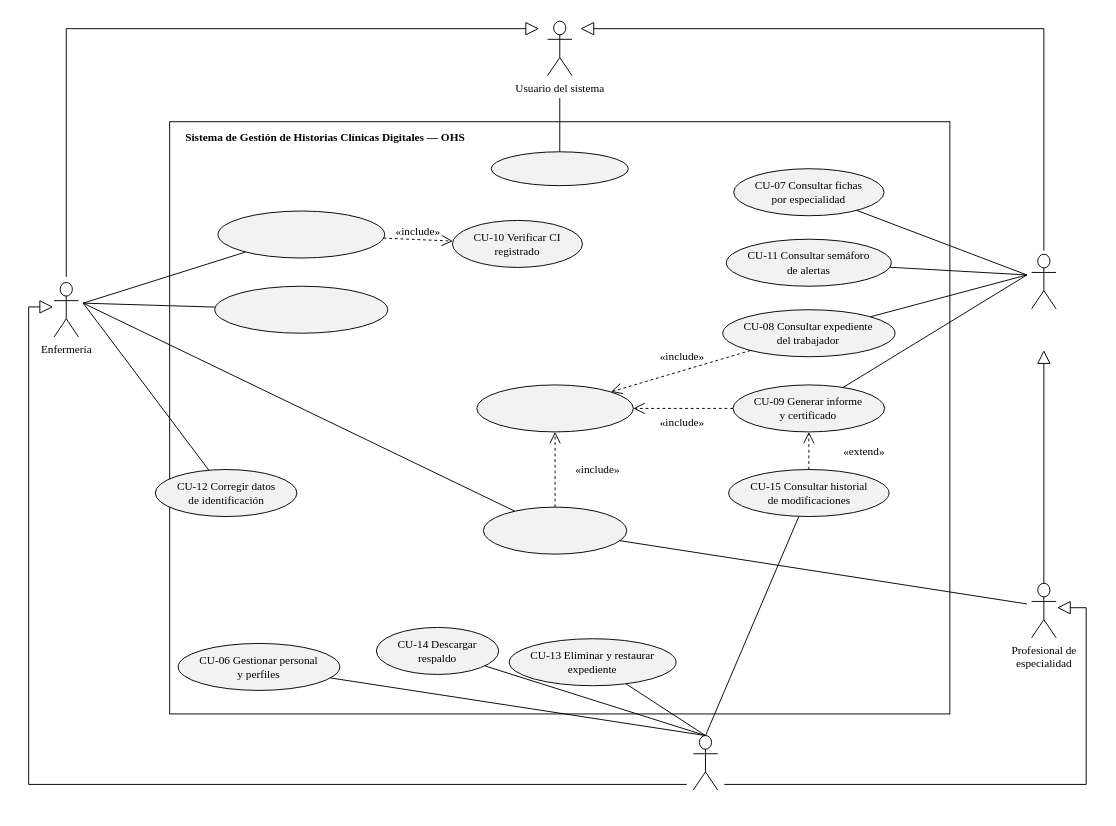
The diagram is 1116 pixels wide and 826 high, and some of its shapes have lost their labels. The centre of each missing label's shape, as x and y in pixels:
CU-01 Iniciar sesión: the point at 559,168
CU-02 Registrar trabajador y evaluación: the point at 301,234
CU-03 Registrar declaración jurada (P1, P2, P3): the point at 301,309
CU-04 Registrar ficha de especialidad: the point at 554,530
CU-05 Buscar trabajador por CI o nombre: the point at 554,408
Médico responsable: the point at 705,762
Usuario de consulta: the point at 1043,281
